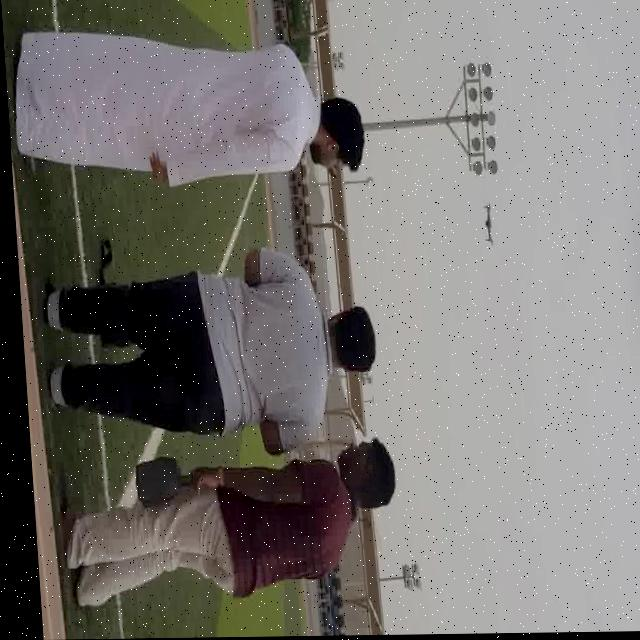drone: (478, 190, 500, 267)
